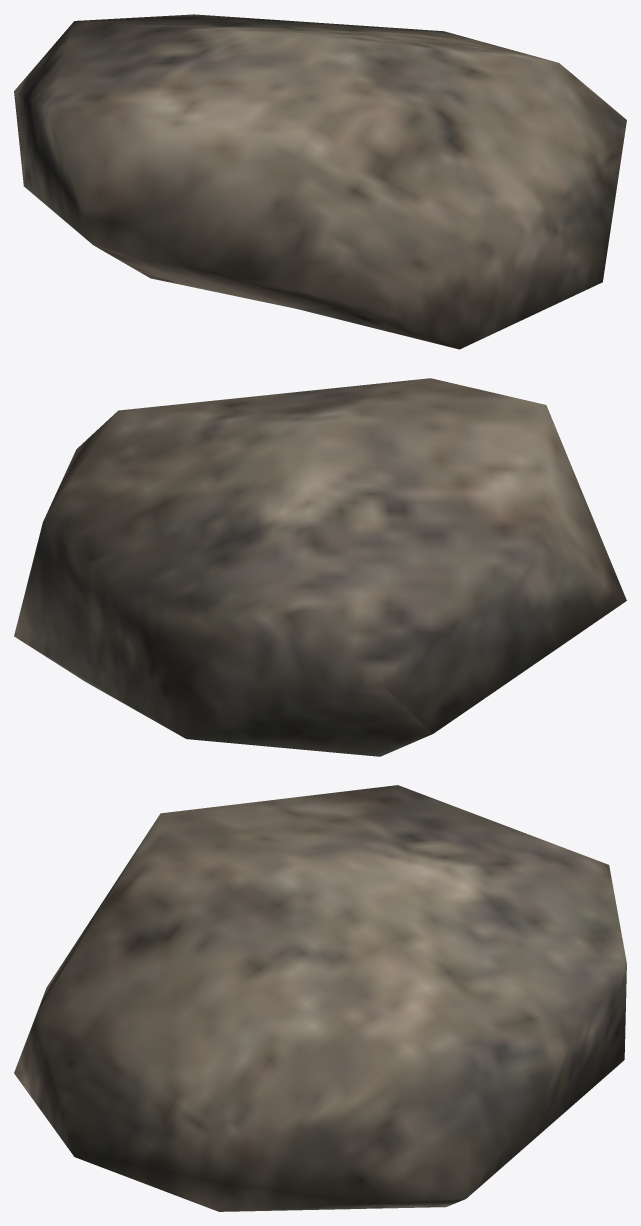
File: Clif_rock_03.fbx
The picture shows the model from 3 angles, top to bottom: view 1: azimuth 30°, elevation 25°; view 2: azimuth 150°, elevation 25°; view 3: azimuth 270°, elevation 25°; orthographic projection. The views are drawn at different scales.
Parts seen in each view (by area): view 1: Clif_rock_03; view 2: Clif_rock_03; view 3: Clif_rock_03.
Boxes of the visible parts, <box> form: Clif_rock_03: <box>14,14,626,349</box>; Clif_rock_03: <box>14,378,626,756</box>; Clif_rock_03: <box>14,785,626,1211</box>.
Bounding box in the file's own units: 5.25 × 2.29 × 5.05.
Materials: 1 (1 with a texture image).
